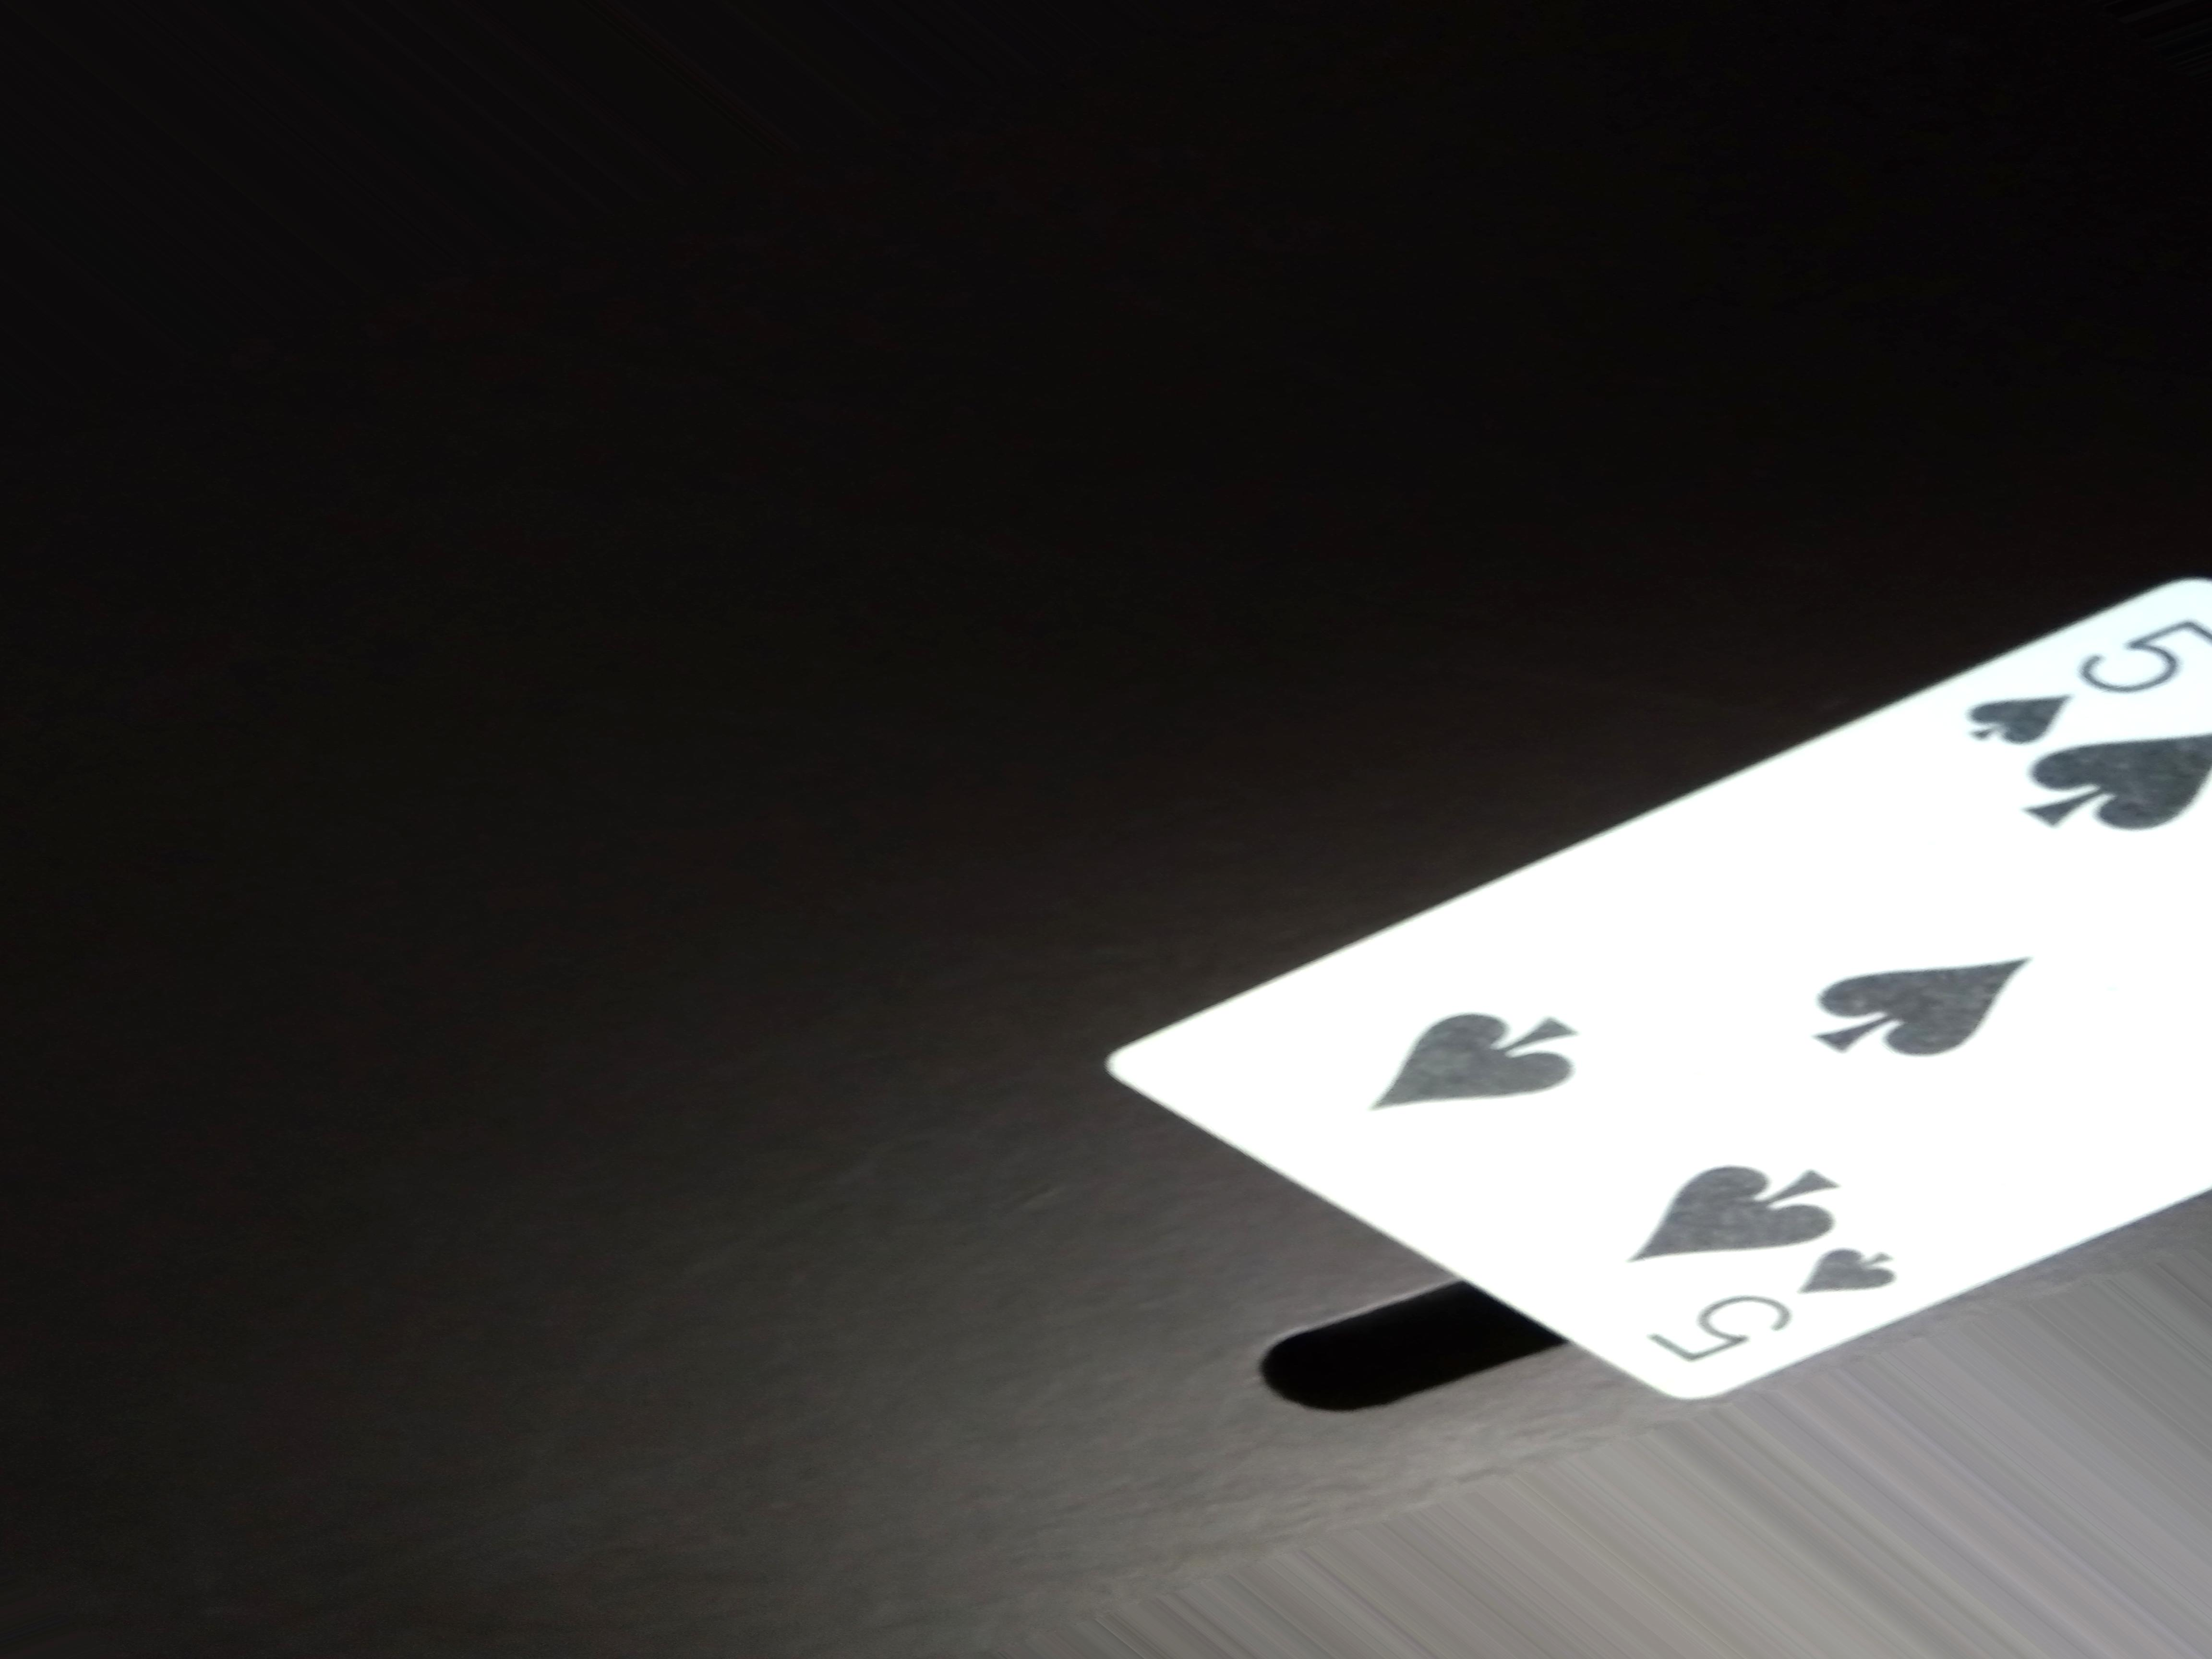5S: (1646, 1243, 1909, 1359)
